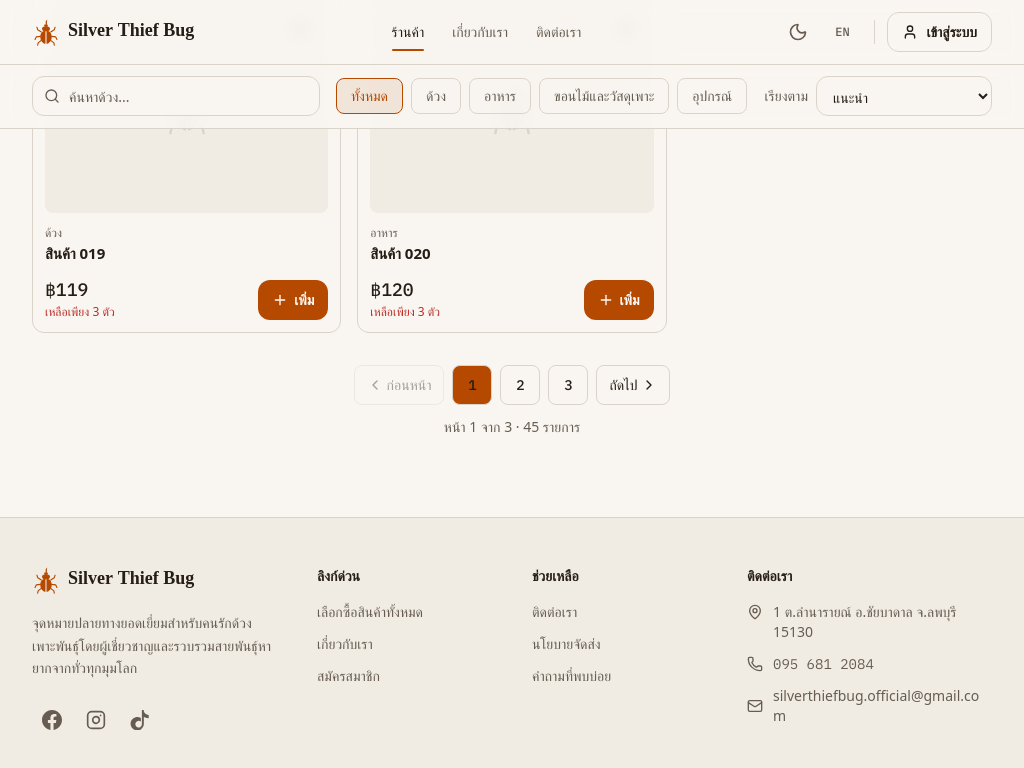
Test: changing a filter goes back to page 1
(page scrolled)
Click the button "ถัดไป": (634, 385) 596,365 -> 670,405
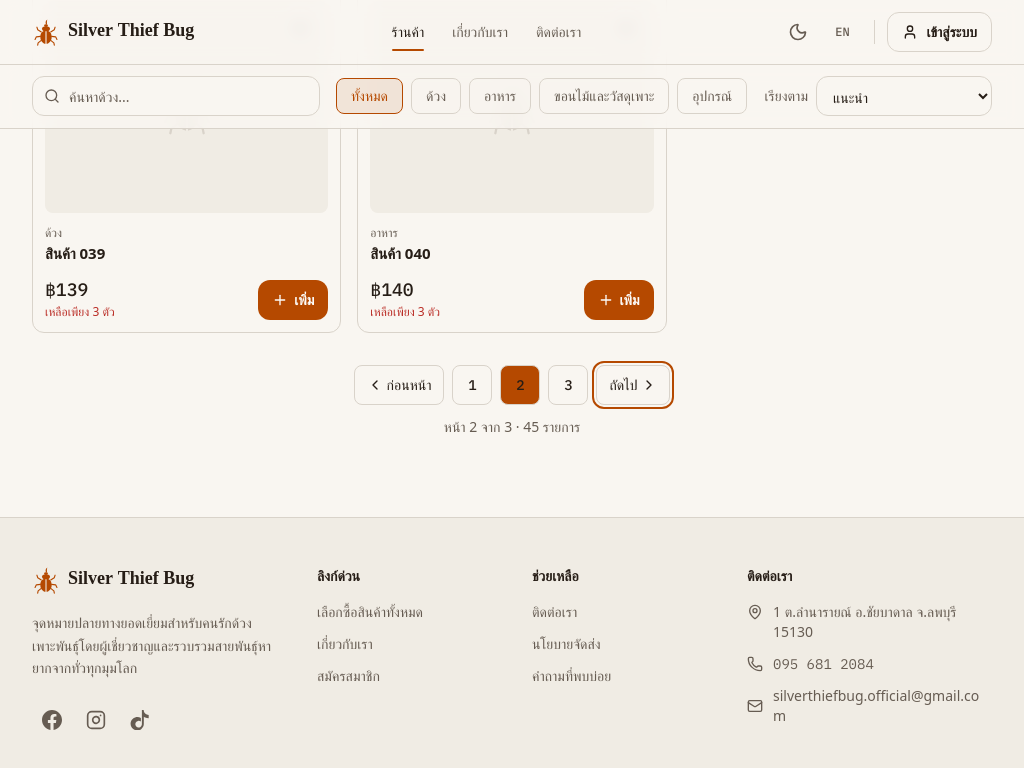
Click the button "ด้วง": (436, 96) 411,78 -> 461,114
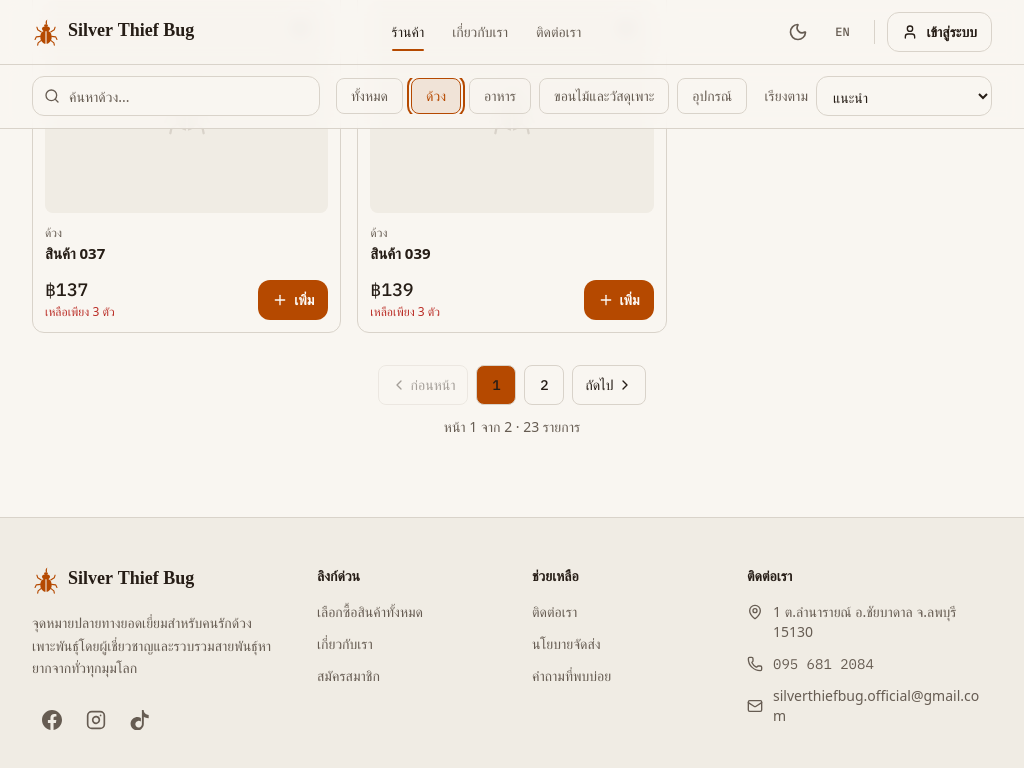
expect the text "หน้า 1 จาก 2 · 23 รายการ" is shown: met, box 444,417 -> 580,437
